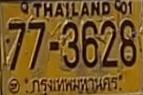2: (100, 21, 117, 66)
3: (62, 21, 78, 68)
6: (82, 20, 97, 67)
7: (8, 22, 25, 69), (28, 22, 45, 68)
8: (119, 19, 136, 66)
BKK: (30, 75, 121, 93)
